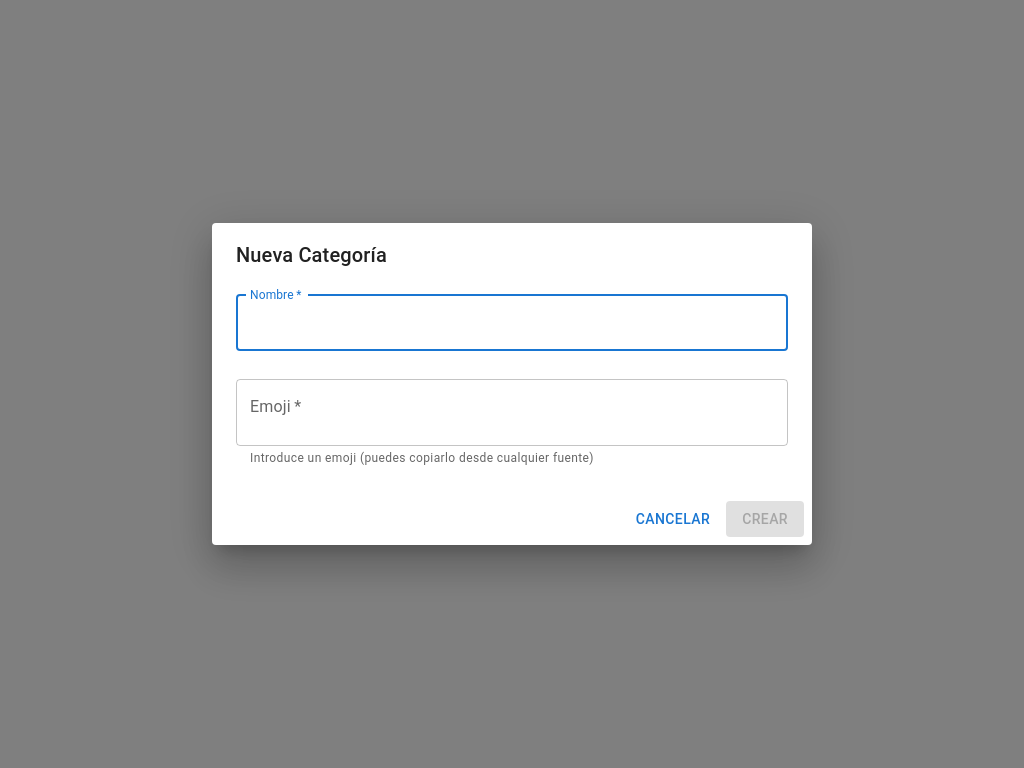
CategoryDialog › shows emoji preview when emoji is entered
This screenshot has width=1024, height=768.
Type "🎉" into the field labelled "Emoji *" at [512, 412], box left=236, top=378, right=788, bottom=446
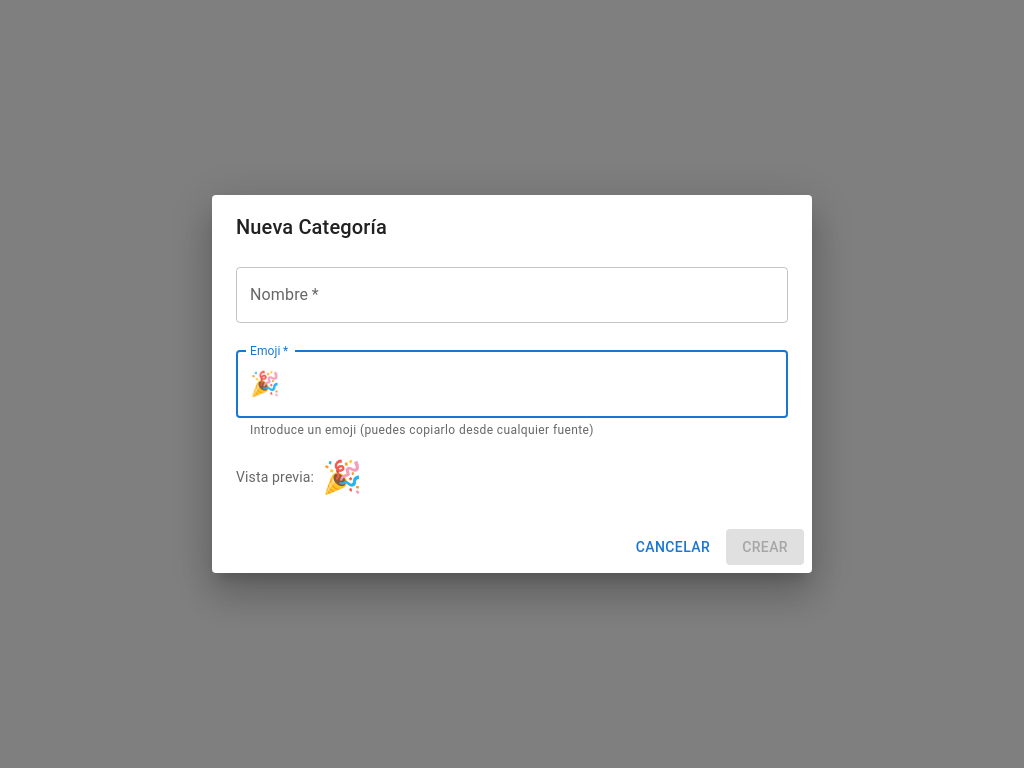
Expected: the text "Vista previa:" is shown, left=236, top=467, right=314, bottom=487
